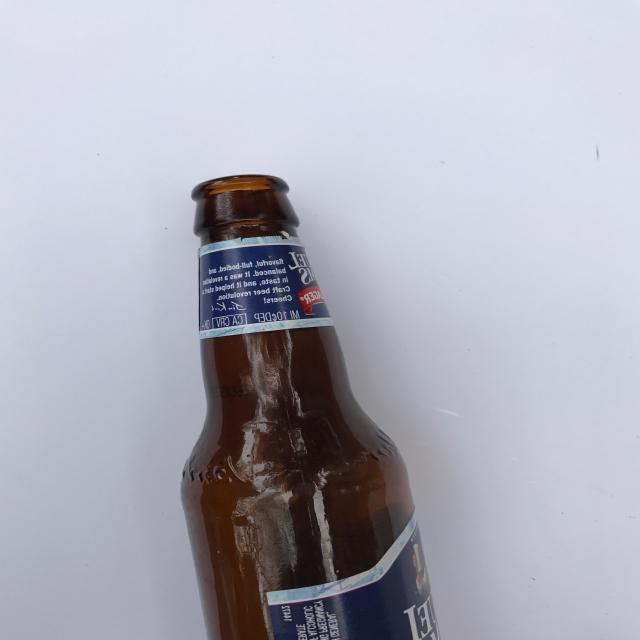glass: (180, 173, 446, 640)
